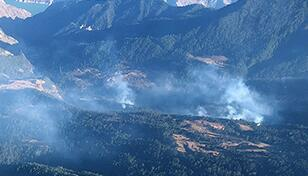yanwu: (65, 61, 279, 128), (0, 36, 94, 158)
